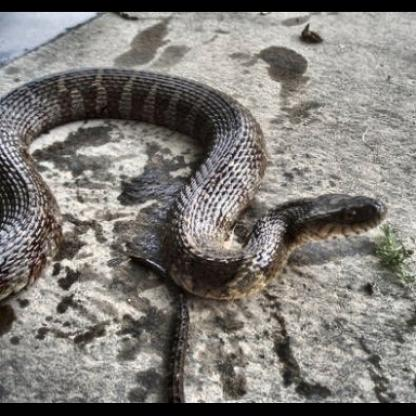Snake: (0, 54, 299, 349), (0, 75, 58, 327)
